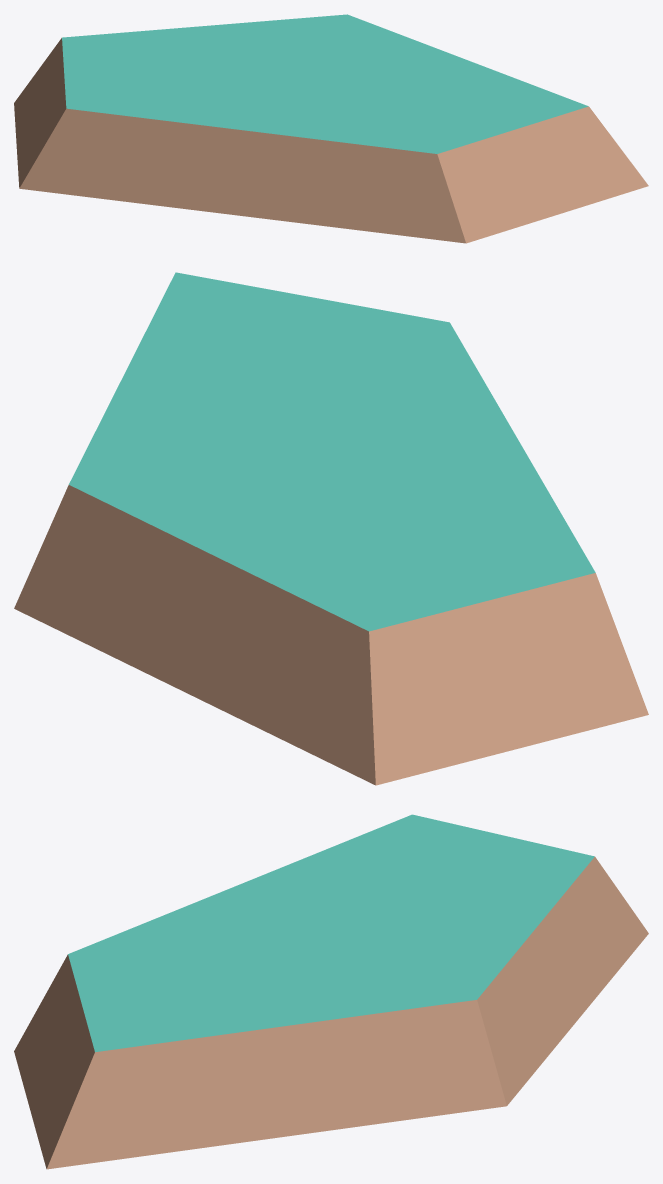
Rendered from rock_smallFlatB.glb.
The picture shows the model from 3 angles, top to bottom: view 1: azimuth 30°, elevation 25°; view 2: azimuth 150°, elevation 25°; view 3: azimuth 270°, elevation 25°; orthographic projection. The views are drawn at different scales.
Parts seen in each view (by area): view 1: rock_smallFlatB; view 2: rock_smallFlatB; view 3: rock_smallFlatB.
Boxes of the visible parts, x1,y1,x2,y2 form: rock_smallFlatB: (14,14,648,243); rock_smallFlatB: (14,272,648,785); rock_smallFlatB: (14,814,648,1169).
Bounding box in the file's own units: 0.4295 × 0.0649 × 0.4024.
